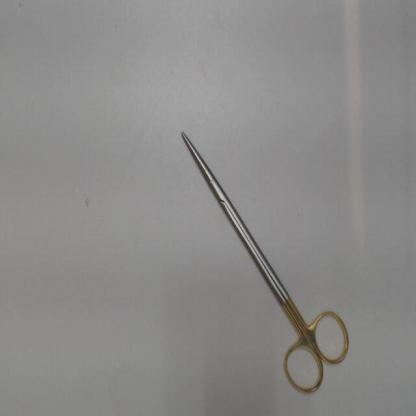7 Metzenbaum Scissors: (179, 127, 353, 399)
